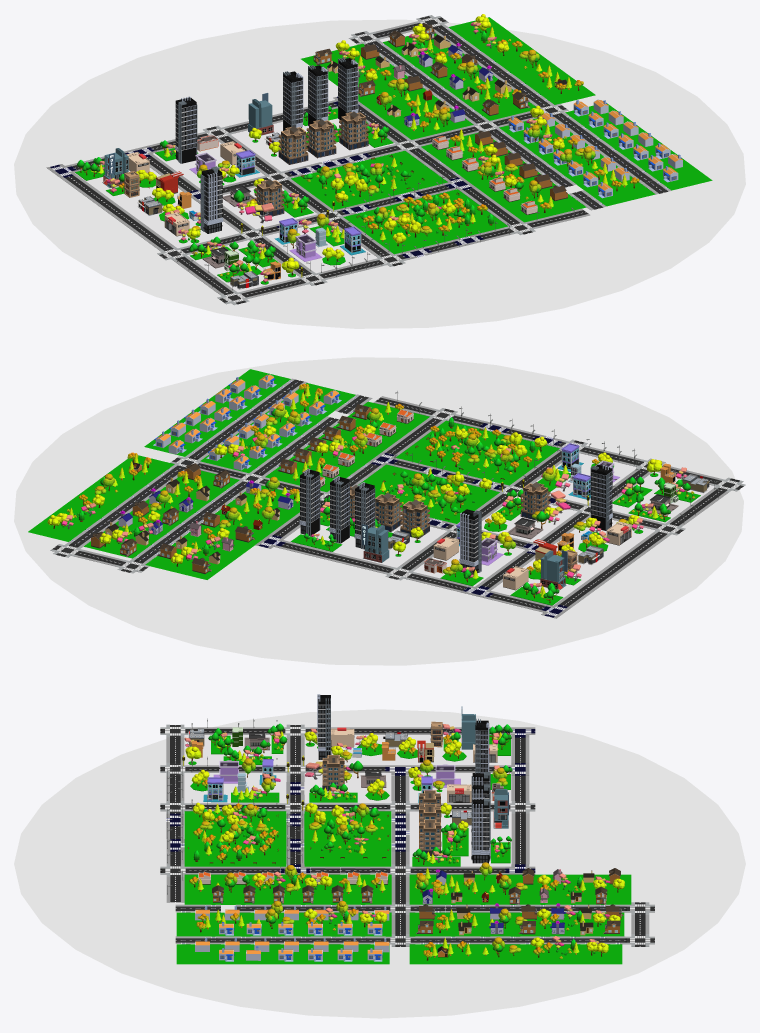
Rendered from low_poly_city.glb.
3 renders of one model, top to bottom at view 1: azimuth 30°, elevation 25°; view 2: azimuth 150°, elevation 25°; view 3: azimuth 270°, elevation 25°, orthographic.
Visible parts, largest first — view 1: Sphere.001_826, Plane.143_147, Plane.054_44, Plane.406_352, Plane.118_130, Plane.119_131, Plane.134_135, Plane.392_338, Plane.370_305, Plane.021_25, Plane.104_122, Modern Office.002_43 (+15 smaller); view 2: Sphere.001_826, Plane.118_130, Plane.143_147, Plane.406_352, Plane.119_131, Plane.054_44, Plane.392_338, Plane.134_135, Plane.370_305, Plane.021_25, Plane.104_122, Modern Office.002_43 (+13 smaller); view 3: Sphere.001_826, Plane.118_130, Plane.143_147, Plane.119_131, Plane.054_44, Plane.406_352, Plane.134_135, Plane.392_338, Plane.370_305, Plane.021_25, Plane.104_122, Plane.006_22 (+10 smaller).
Part boxes in pixels (left/top/right/bottom): Sphere.001_826: left=14, top=19, right=745, bottom=328; Plane.143_147: left=343, top=189, right=507, bottom=254; Plane.054_44: left=291, top=150, right=447, bottom=209; Plane.406_352: left=448, top=17, right=595, bottom=104; Plane.118_130: left=301, top=43, right=473, bottom=139; Plane.119_131: left=421, top=132, right=586, bottom=222; Plane.134_135: left=499, top=118, right=655, bottom=206; Plane.392_338: left=383, top=33, right=535, bottom=120; Plane.370_305: left=565, top=103, right=712, bottom=190; Plane.021_25: left=74, top=167, right=239, bottom=248; Plane.104_122: left=231, top=118, right=395, bottom=171; Modern Office.002_43: left=200, top=166, right=223, bottom=233; Sphere.001_826: left=14, top=357, right=743, bottom=665; Plane.118_130: left=145, top=485, right=299, bottom=579; Plane.143_147: left=395, top=420, right=559, bottom=485; Plane.406_352: left=28, top=455, right=174, bottom=541; Plane.119_131: left=265, top=401, right=429, bottom=492; Plane.054_44: left=358, top=464, right=499, bottom=523; Plane.392_338: left=84, top=470, right=239, bottom=558; Plane.134_135: left=200, top=383, right=355, bottom=473; Plane.370_305: left=144, top=369, right=290, bottom=456; Plane.021_25: left=491, top=519, right=655, bottom=605; Plane.104_122: left=283, top=520, right=447, bottom=567; Modern Office.002_43: left=590, top=464, right=612, bottom=530; Sphere.001_826: left=14, top=709, right=745, bottom=1018; Plane.118_130: left=409, top=874, right=631, bottom=904; Plane.143_147: left=184, top=811, right=286, bottom=867; Plane.119_131: left=184, top=874, right=391, bottom=904; Plane.054_44: left=304, top=811, right=391, bottom=866; Plane.406_352: left=409, top=944, right=622, bottom=964; Plane.134_135: left=176, top=912, right=391, bottom=936; Plane.392_338: left=409, top=912, right=624, bottom=936; Plane.370_305: left=176, top=944, right=389, bottom=964; Plane.021_25: left=304, top=735, right=511, bottom=765; Plane.104_122: left=409, top=811, right=511, bottom=866; Plane.006_22: left=184, top=773, right=286, bottom=803.
Size of the model in its own units: 488 by 52.64 by 488.
Materials: 32 (5 with a texture image).
